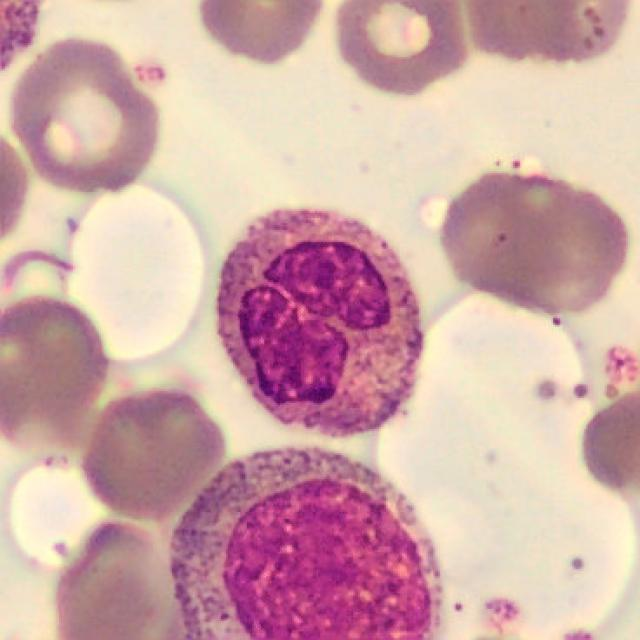Neutrofilo segmentado: (214, 206, 424, 441)
